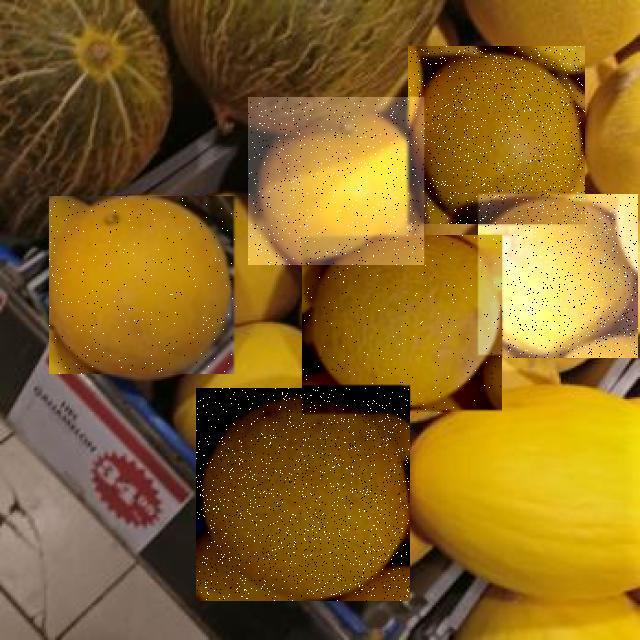Cantaloupe: (197, 388, 411, 601), (302, 236, 502, 414), (50, 196, 238, 374), (408, 46, 585, 224), (249, 97, 425, 265), (478, 194, 638, 358)
